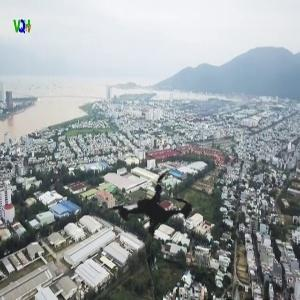drone: (76, 131, 226, 281)
